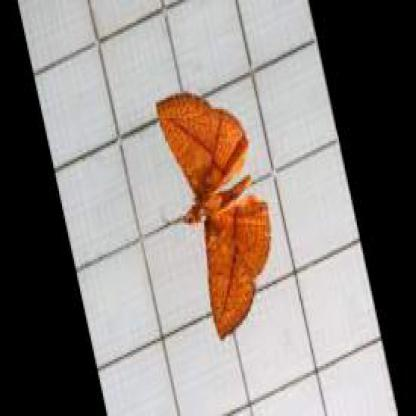Leaf Webber: (155, 94, 274, 344)
